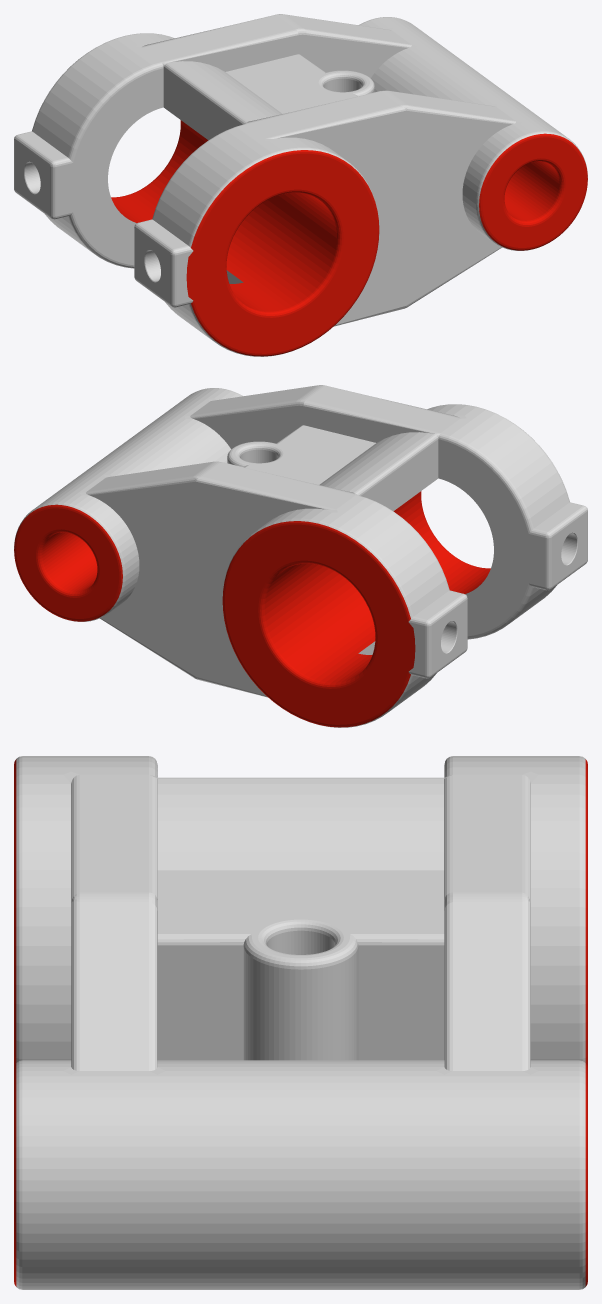
The model's file is GLB_cad_1_11_mod_100_2.glb.
3 views of the same model, one above another, from view 1: azimuth 30°, elevation 25°; view 2: azimuth 150°, elevation 25°; view 3: azimuth 270°, elevation 25° (orthographic). The views are drawn at different scales.
Visible parts, largest first — view 1: Cube; view 2: Cube; view 3: Cube.
Boxes of the visible parts, x1,y1,x2,y2 form: Cube: [14, 14, 587, 356]; Cube: [14, 385, 587, 727]; Cube: [14, 756, 587, 1289].
Bounding box in the file's own units: 150 × 70 × 100.
